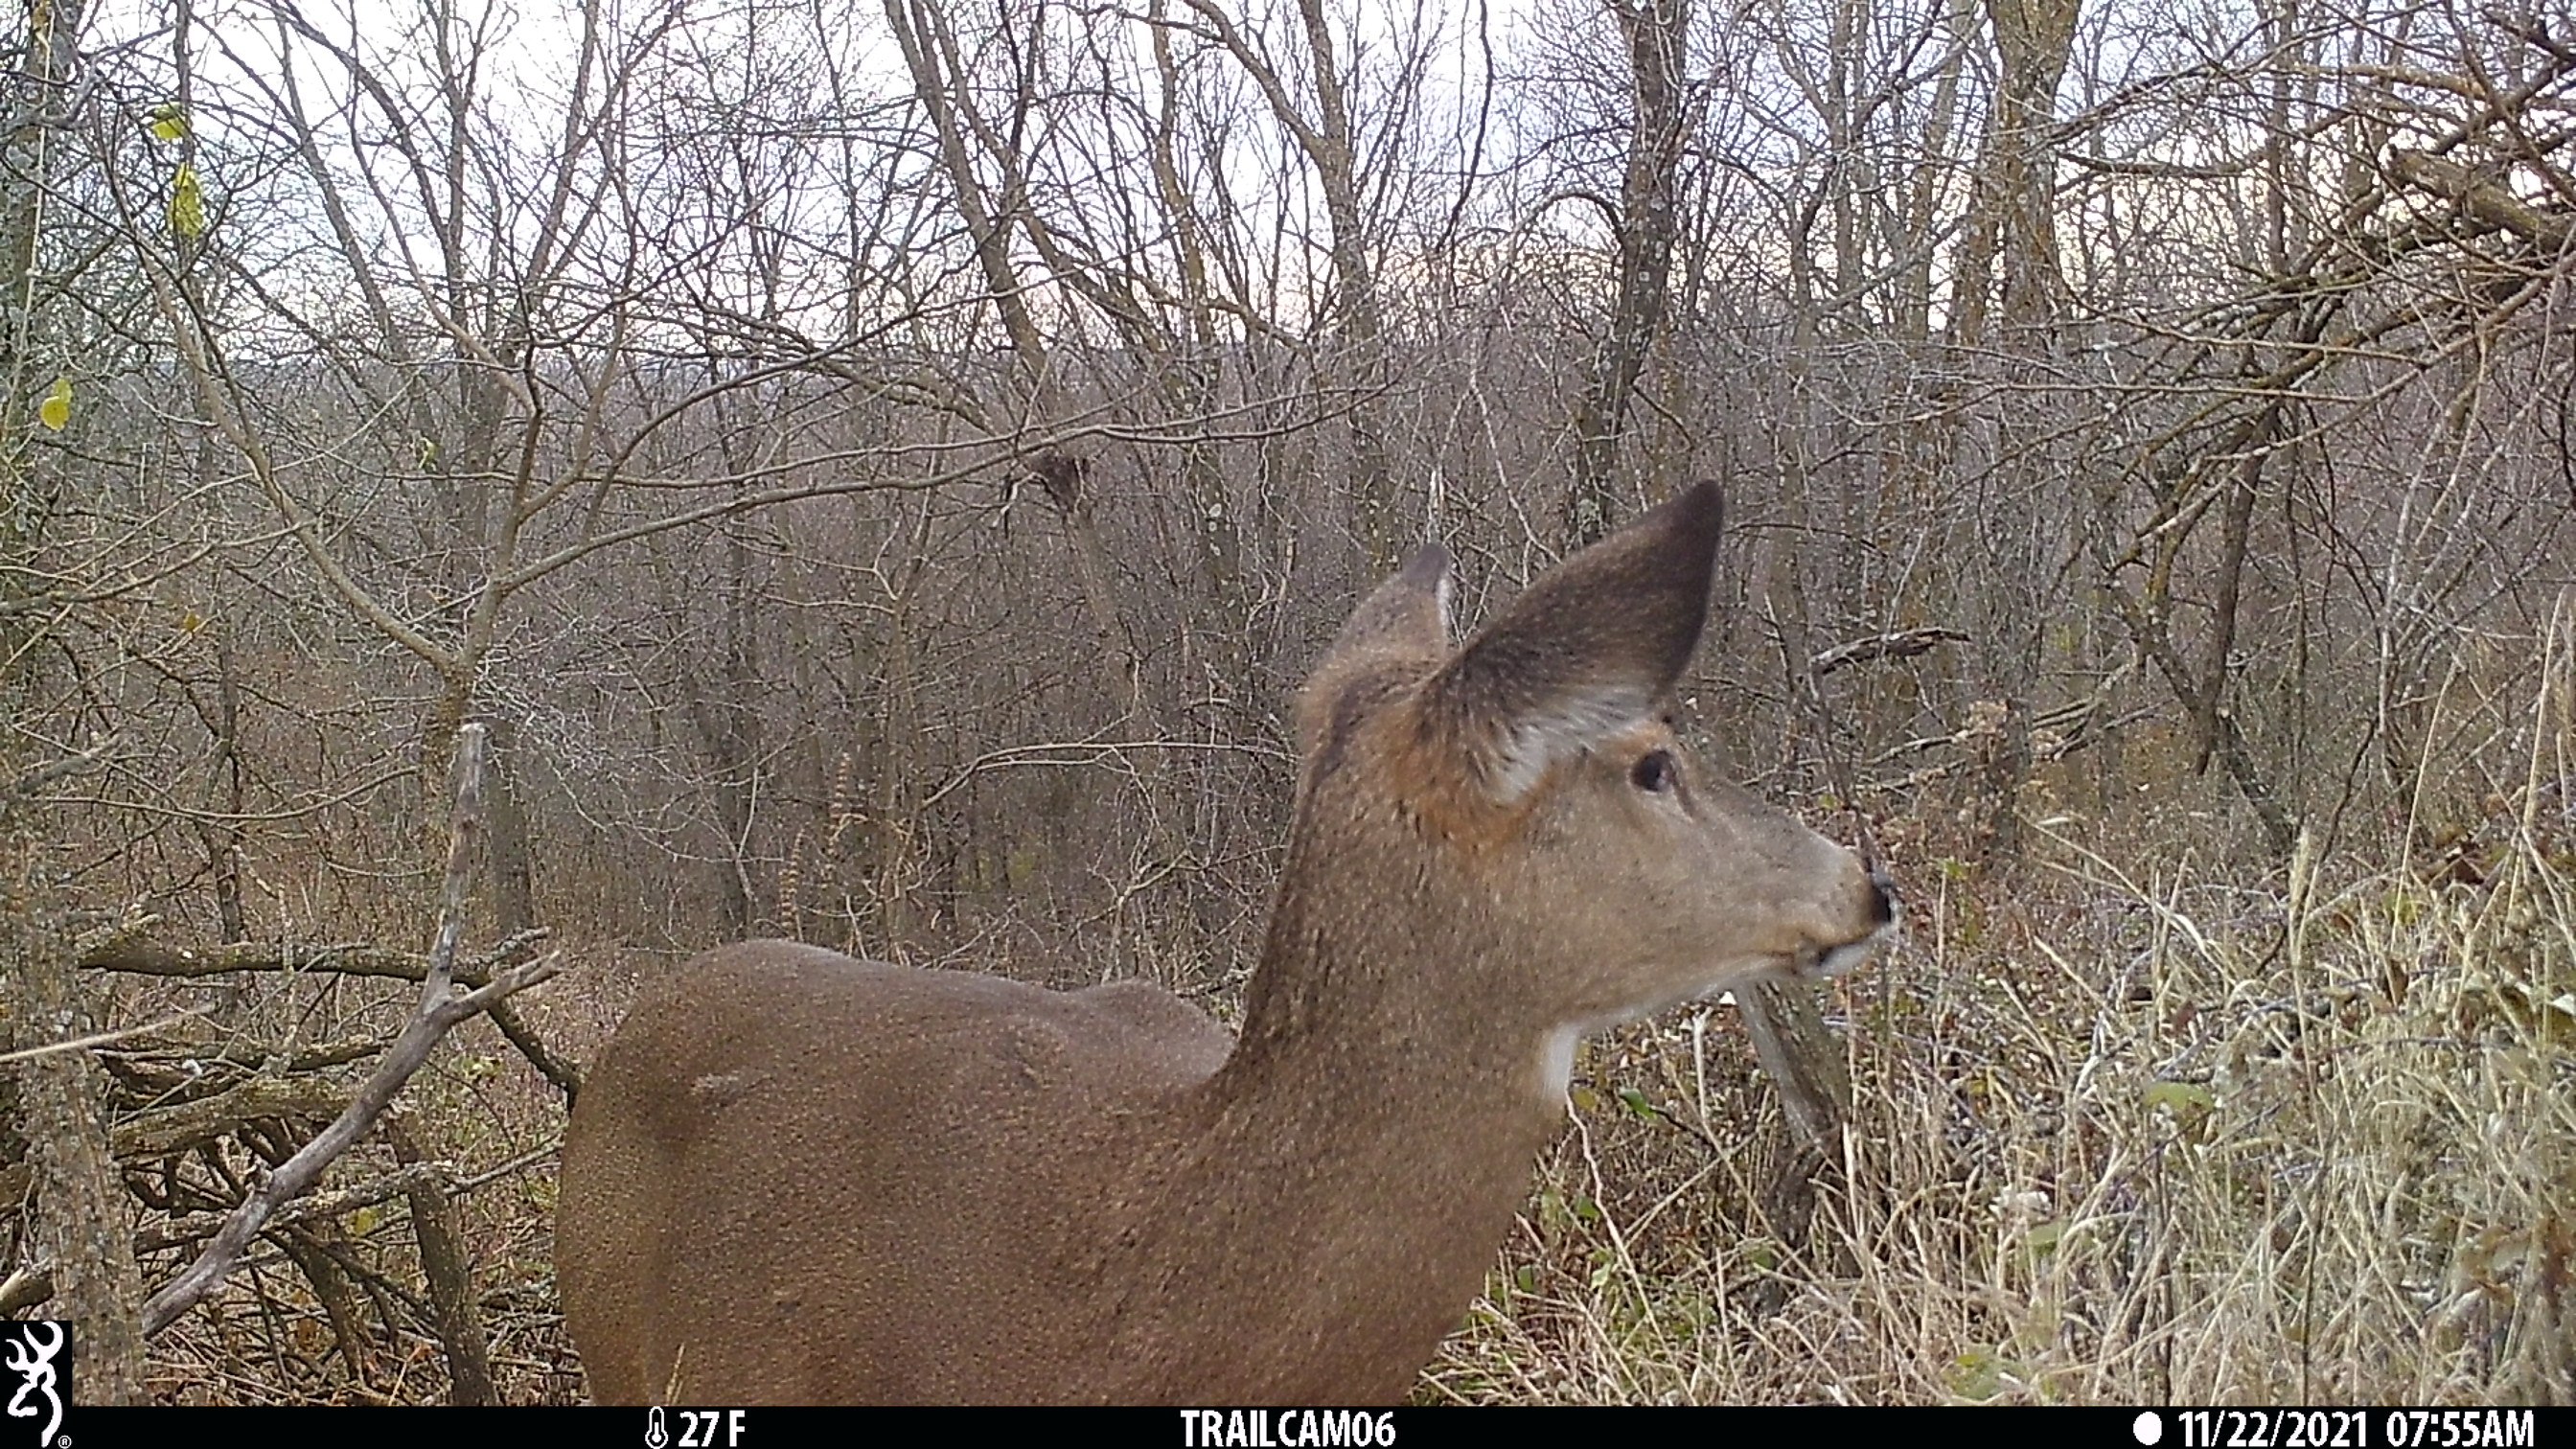Deer: (550, 472, 1907, 1399)
